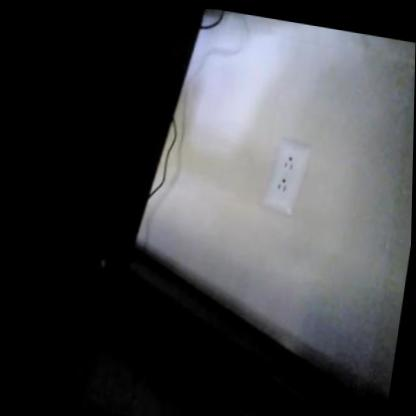OUTLET: (263, 140, 308, 216)
